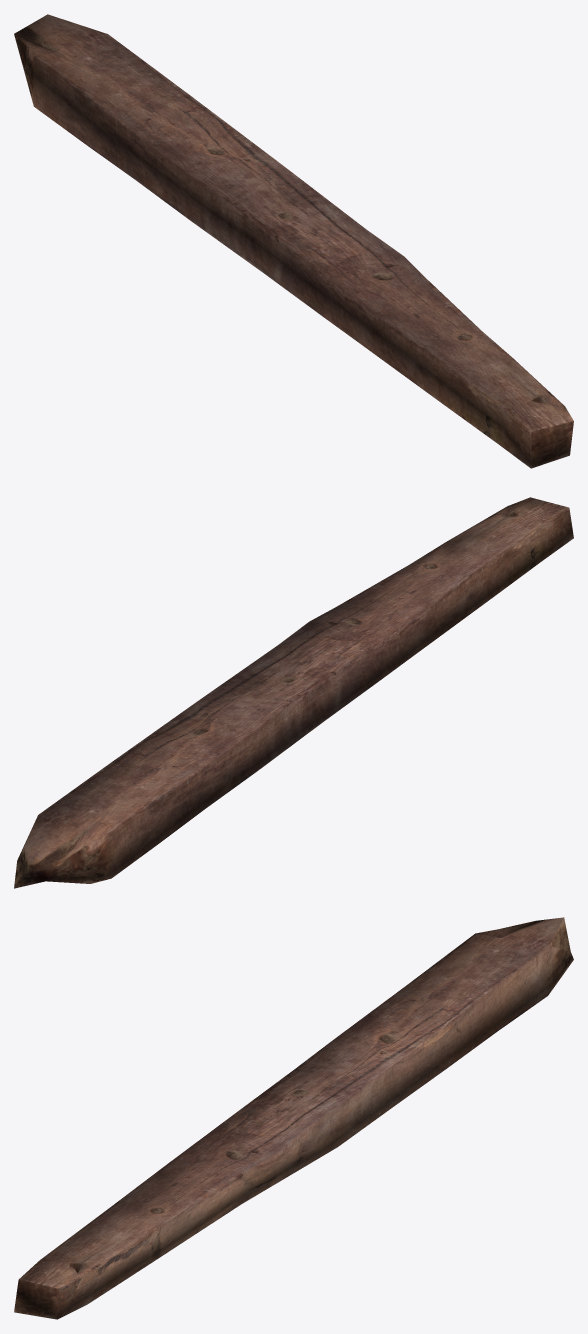
Rendered from Wooden_Plank_002.fbx.
3 views of the same model, one above another, from view 1: azimuth 30°, elevation 25°; view 2: azimuth 150°, elevation 25°; view 3: azimuth 330°, elevation 25° (orthographic). The views are drawn at different scales.
Visible parts, largest first — view 1: ricaS_LOD0_TIER2_002; view 2: ricaS_LOD0_TIER2_002; view 3: ricaS_LOD0_TIER2_002.
Part boxes in pixels (x1,y1,x2,y2): ricaS_LOD0_TIER2_002: [14, 14, 573, 468]; ricaS_LOD0_TIER2_002: [14, 497, 573, 888]; ricaS_LOD0_TIER2_002: [14, 917, 573, 1319].
Bounding box in the file's own units: 0.0645 × 0.0402 × 0.7642.
